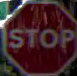Stop: (3, 3, 76, 75)
